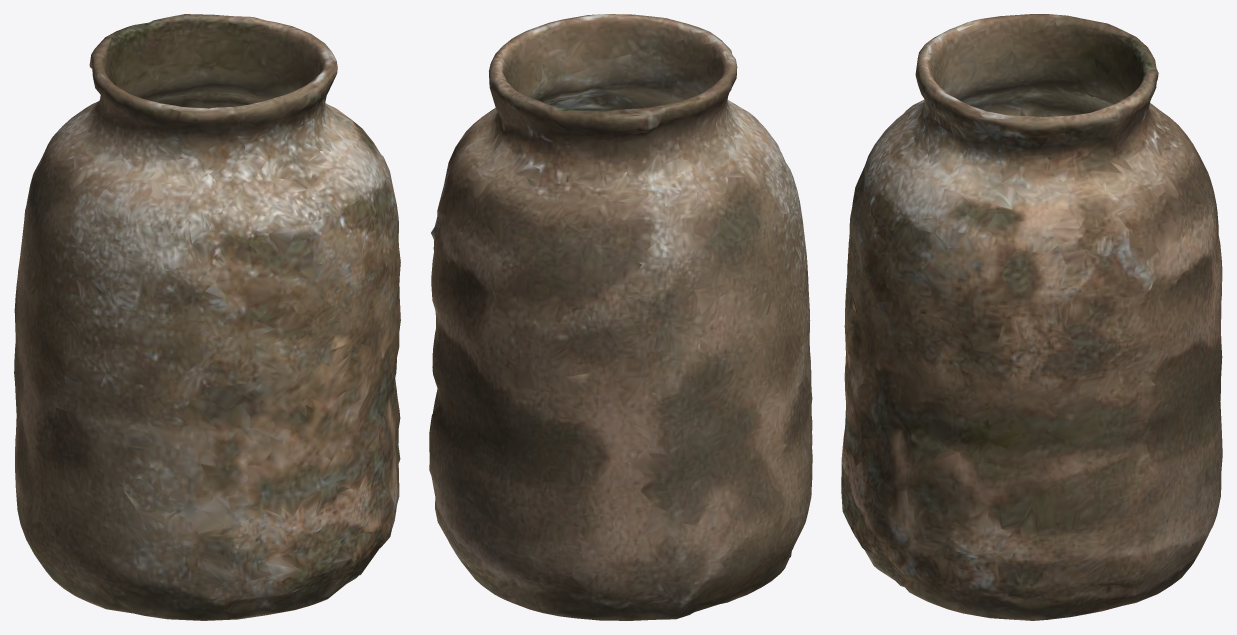
File: MaterialPlace_02.glb
3 views of the same model, side by side, from view 1: azimuth 30°, elevation 25°; view 2: azimuth 150°, elevation 25°; view 3: azimuth 270°, elevation 25° (orthographic).
Parts seen in each view (by area): view 1: Meshy_AI_Speckled_Stoneware_Ja_0529122942_texture; view 2: Meshy_AI_Speckled_Stoneware_Ja_0529122942_texture; view 3: Meshy_AI_Speckled_Stoneware_Ja_0529122942_texture.
Boxes of the visible parts, bbox=[...] form: Meshy_AI_Speckled_Stoneware_Ja_0529122942_texture: bbox=[14, 14, 400, 620]; Meshy_AI_Speckled_Stoneware_Ja_0529122942_texture: bbox=[429, 14, 812, 620]; Meshy_AI_Speckled_Stoneware_Ja_0529122942_texture: bbox=[841, 14, 1222, 620].
Bounding box in the file's own units: 1.34 × 1.9 × 1.33.
1 material, 1 textured.
